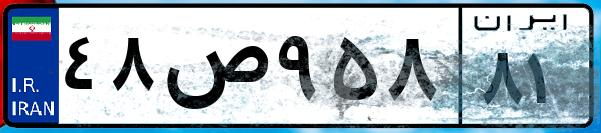1: (525, 38, 570, 115)
4: (57, 26, 110, 100)
5: (330, 28, 385, 110)
8: (385, 28, 445, 110), (475, 38, 525, 113), (110, 28, 158, 98)
9: (270, 28, 330, 110)
ص: (158, 20, 270, 120)
